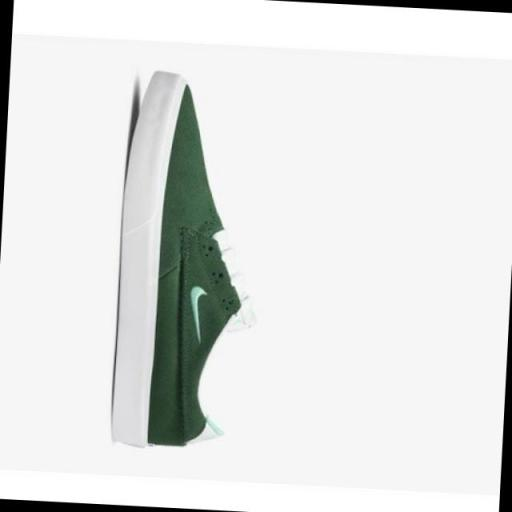Nike: (180, 282, 211, 348)
